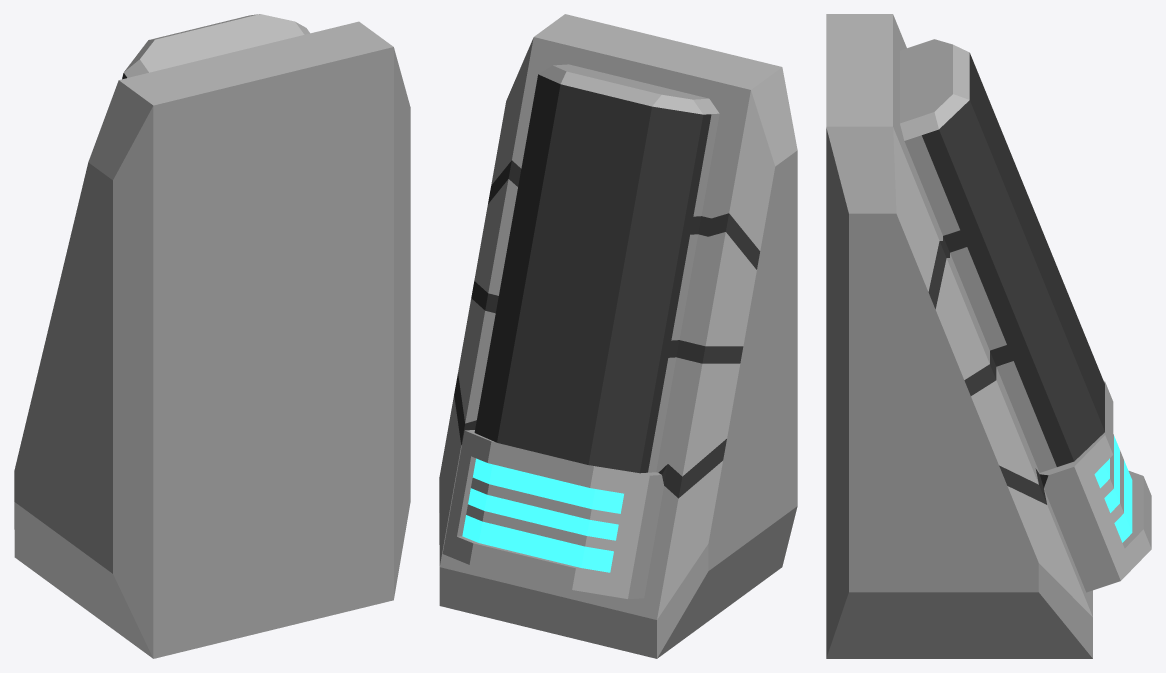
Rendered from Sleep_Chamber.fbx.
3 renders of one model, left to right at view 1: azimuth 30°, elevation 25°; view 2: azimuth 150°, elevation 25°; view 3: azimuth 270°, elevation 25°, orthographic. The views are drawn at different scales.
Visible parts, largest first — view 1: Sleep Chamber; view 2: Sleep Chamber; view 3: Sleep Chamber.
Boxes of the visible parts, x1,y1,x2,y2 form: Sleep Chamber: (14,14,410,658); Sleep Chamber: (439,14,797,658); Sleep Chamber: (826,14,1151,658).
Size of the model in its own units: 2.48 by 4.41 by 2.44.
